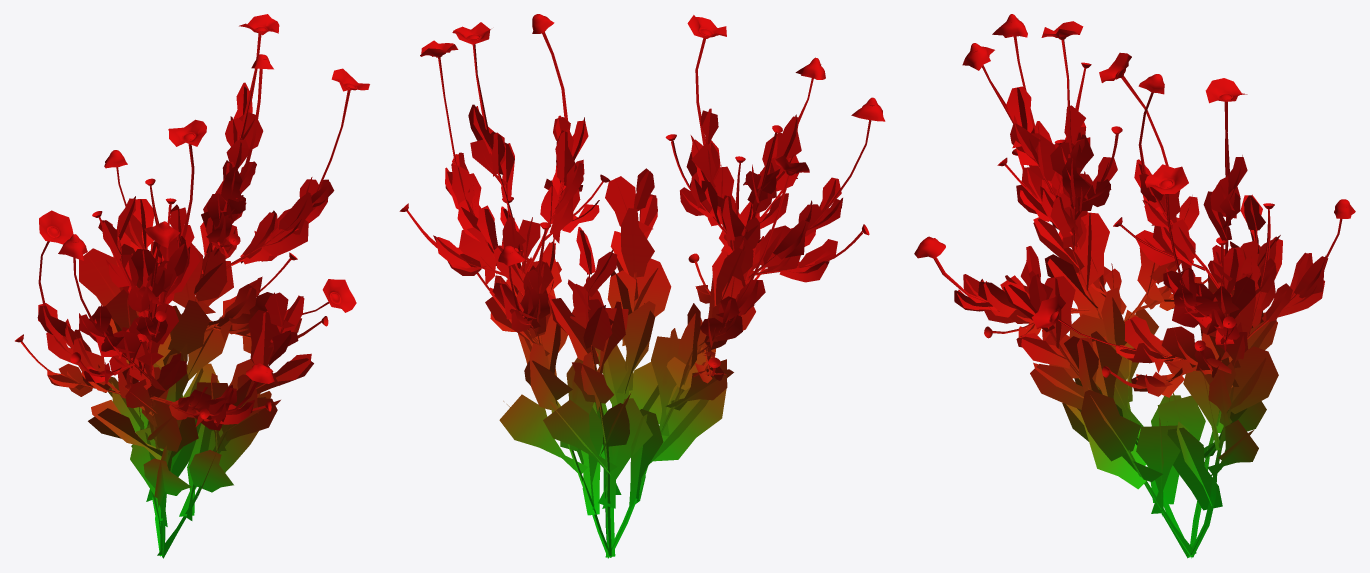
The model's file is Chamomile_LOD0_Var1_ujcnejvja.fbx.
The picture shows the model from 3 angles, left to right: view 1: azimuth 30°, elevation 25°; view 2: azimuth 150°, elevation 25°; view 3: azimuth 270°, elevation 25°; orthographic projection. The views are drawn at different scales.
Parts seen in each view (by area): view 1: _1yg3_Var1_LOD0; view 2: _1yg3_Var1_LOD0; view 3: _1yg3_Var1_LOD0.
Part boxes in pixels (x1=…): _1yg3_Var1_LOD0: x1=15, y1=14, x2=369, y2=558; _1yg3_Var1_LOD0: x1=399, y1=14, x2=885, y2=558; _1yg3_Var1_LOD0: x1=914, y1=14, x2=1355, y2=558.
Size of the model in its own units: 48.46 by 60.67 by 45.63.
